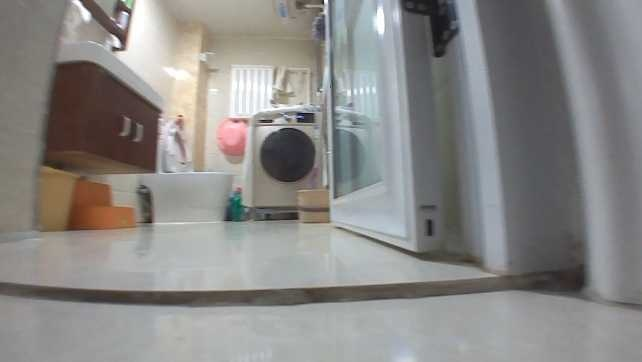door_sill: (0, 277, 524, 304)
toilet: (141, 135, 231, 222)
washing_machine: (243, 105, 327, 218)
washstand: (44, 36, 163, 176)
